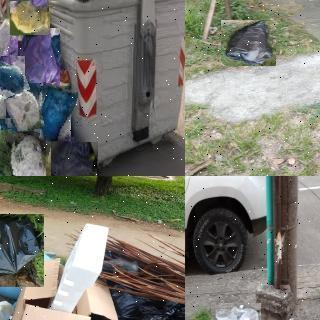Garbage: (0, 214, 44, 287), (18, 28, 60, 94), (31, 84, 75, 144), (221, 20, 276, 66), (4, 82, 43, 133), (4, 134, 49, 176), (50, 141, 97, 176), (10, 0, 50, 36), (0, 54, 27, 96), (0, 119, 19, 176), (211, 302, 261, 320)
